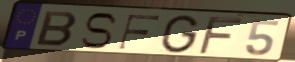5: (244, 18, 281, 57)
B: (33, 9, 80, 48)
F: (196, 15, 244, 56), (116, 13, 163, 51)
G: (158, 14, 201, 55)
S: (78, 11, 120, 51)
